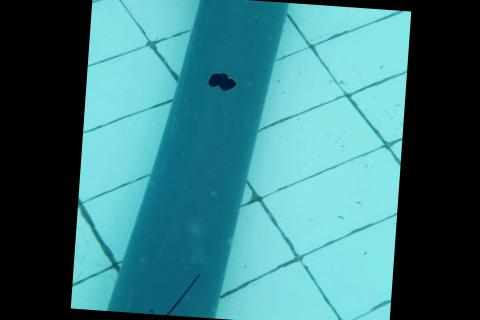kebocoran: (203, 70, 237, 91)
keretakan: (127, 268, 202, 317)
